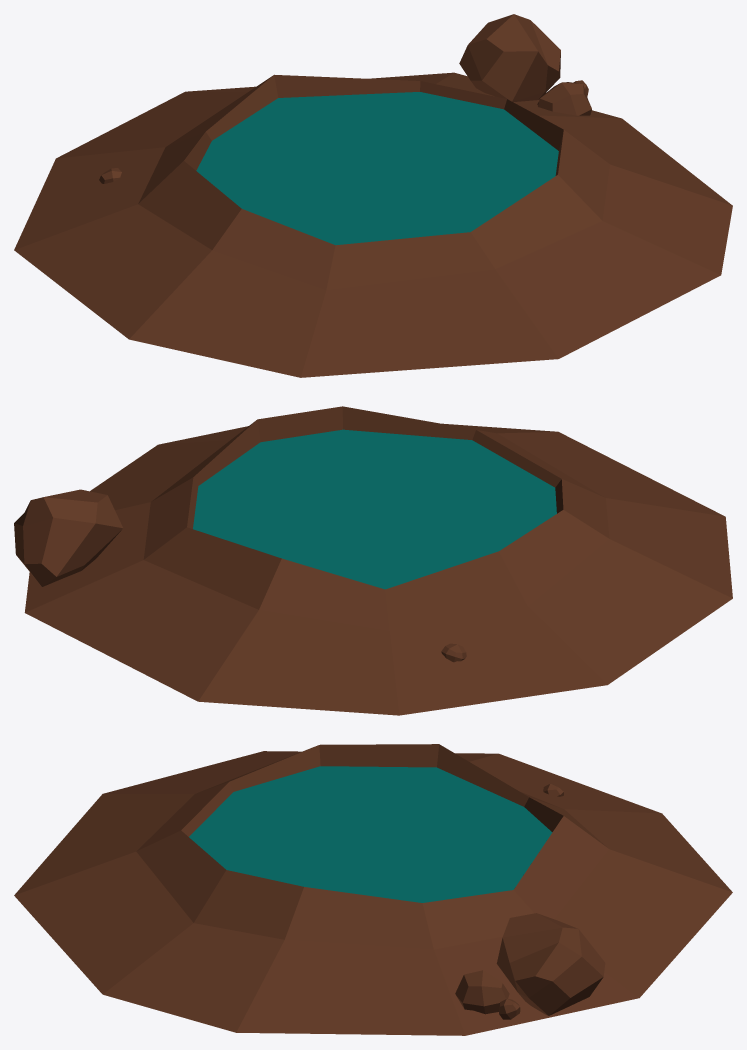
The model's file is WaterCrater.fbx.
3 renders of one model, top to bottom at view 1: azimuth 30°, elevation 25°; view 2: azimuth 150°, elevation 25°; view 3: azimuth 270°, elevation 25°, orthographic. The views are drawn at different scales.
Visible parts, largest first — view 1: Icosphere, Cube.002, Cube; view 2: Icosphere, Cube.002; view 3: Icosphere, Cube.002, Cube.
Boxes of the visible parts, bbox=[...] form: Icosphere: bbox=[14, 72, 732, 377]; Cube.002: bbox=[459, 14, 560, 101]; Cube: bbox=[537, 82, 591, 115]; Icosphere: bbox=[24, 406, 732, 715]; Cube.002: bbox=[14, 489, 123, 586]; Icosphere: bbox=[14, 744, 732, 1035]; Cube.002: bbox=[496, 913, 605, 1015]; Cube: bbox=[455, 970, 509, 1014].
Bounding box in the file's own units: 256 × 35.45 × 274.
